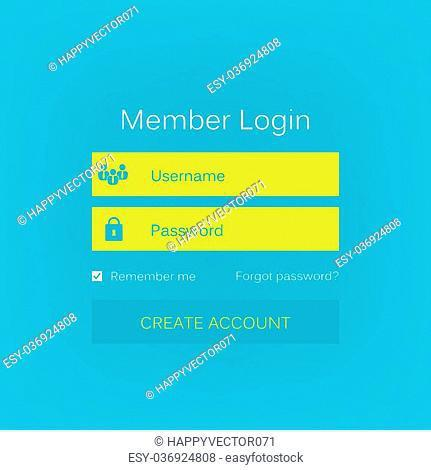button: (91, 299, 341, 344), (93, 208, 340, 251)
checkbox: (91, 268, 106, 286)
input: (93, 153, 340, 196)
label: (109, 270, 201, 288)
